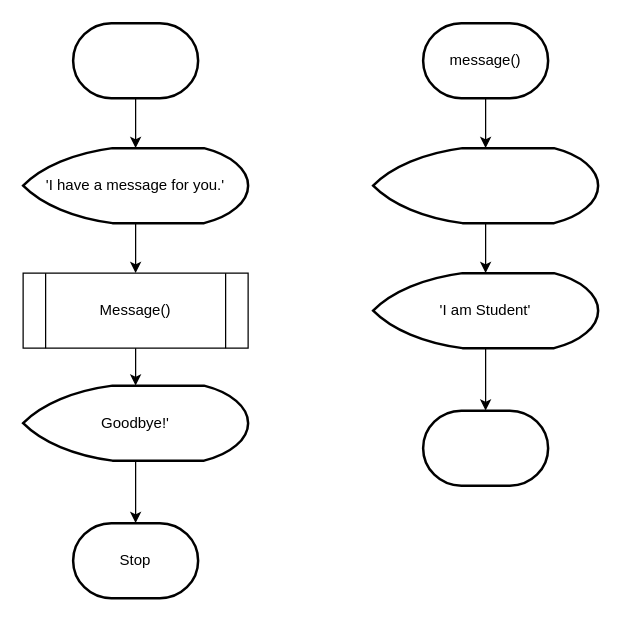
The diagram is 620 pixels wide and 620 high, and some of its shapes have lost their labels. Each missing label, with the centre of its shape:
"'I am Tanawat" goes at (x=485, y=185).
"Return" goes at (x=485, y=447).
"Start" goes at (x=135, y=60).
